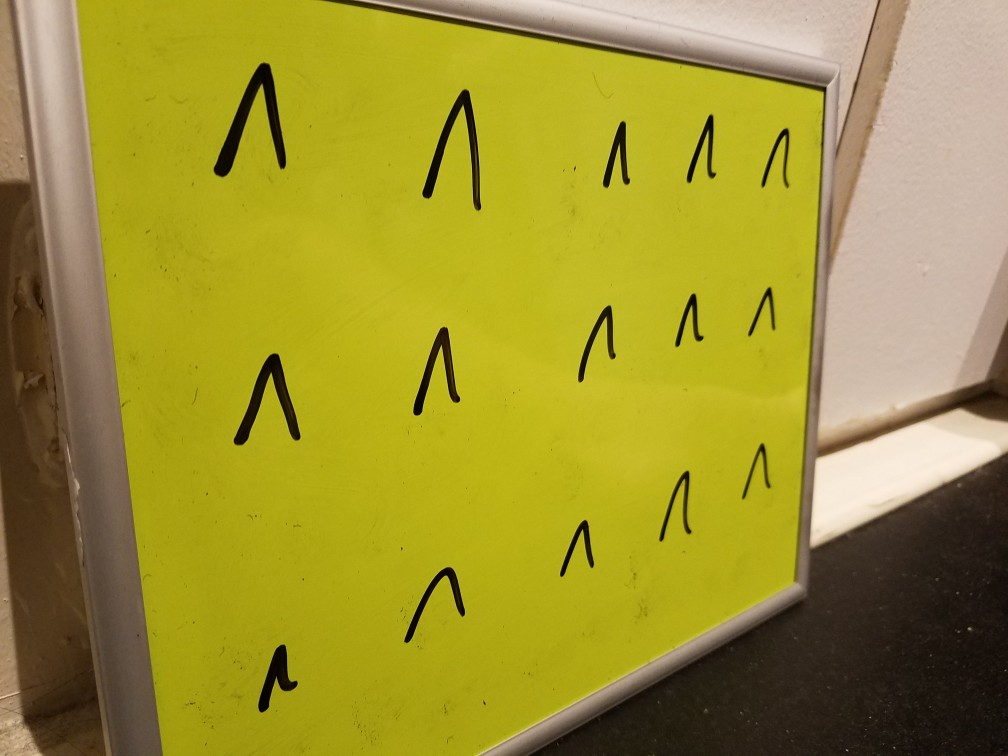^: (373, 518, 495, 664), (206, 47, 305, 203), (401, 74, 501, 221), (210, 339, 313, 465), (399, 320, 485, 426), (529, 501, 621, 594), (560, 295, 638, 392), (642, 456, 712, 558), (246, 612, 307, 723), (724, 428, 793, 520), (591, 107, 645, 203), (732, 270, 791, 352), (666, 279, 720, 366), (679, 98, 723, 198), (757, 120, 801, 194)
